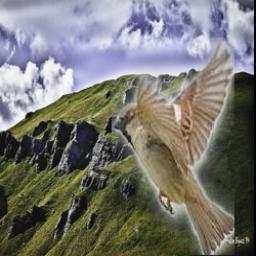Sparrow: (112, 38, 234, 255)
